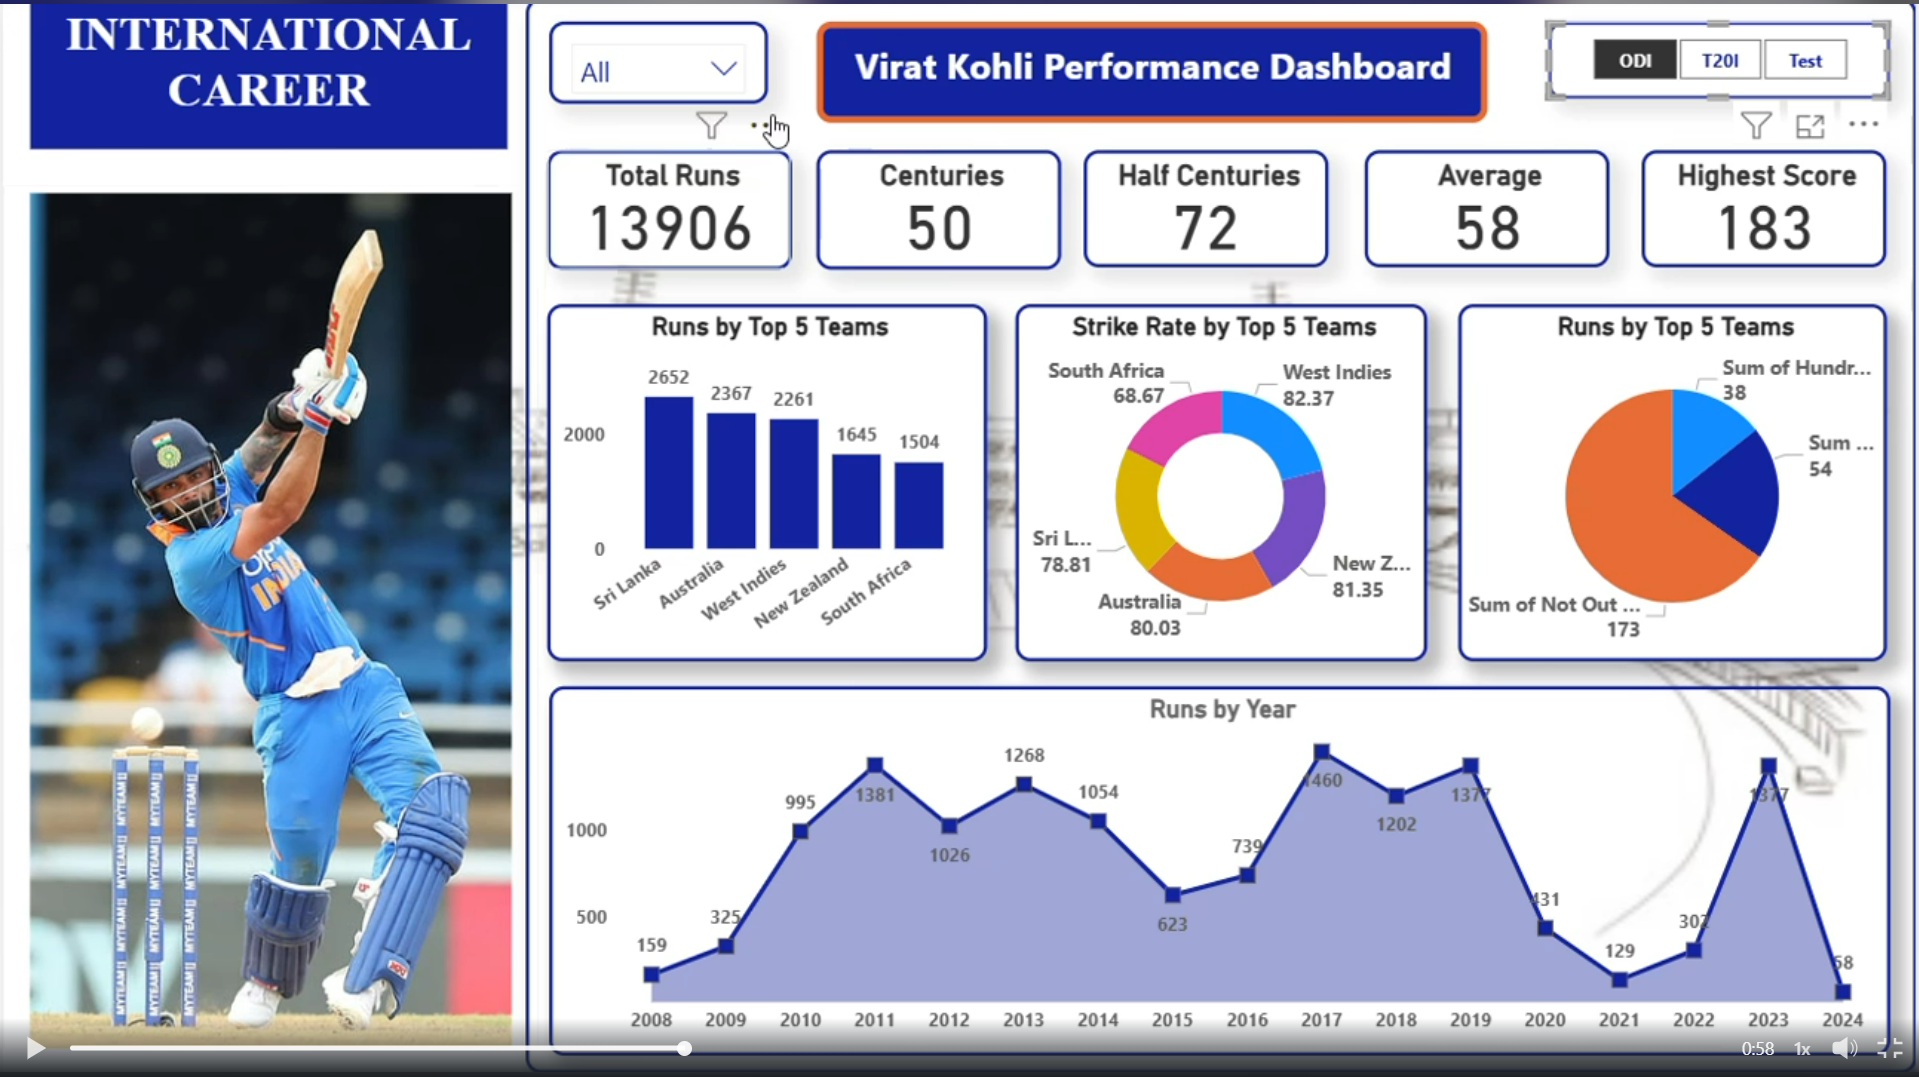

Layout of this report page (visuals, bound fields, positions):
{"tool":"powerbi","page":{"name":"Page 1","canvas":[1280,720],"ordinal":0},"visuals":[{"type":"shape","box":[349.3,0,930.4,720.3],"z":0},{"type":"image","box":[0,125,358.3,583.3],"z":1000},{"type":"card","title":"Total Runs","fields":{"Values":["Sum(Main.Runs)"]},"box":[363.8,101.4,163.8,79.7],"z":2000},{"type":"card","title":"Centuries","fields":{"Values":["Sum(Main.Hundreds)"]},"box":[544.9,101.4,163.8,79.7],"z":3000},{"type":"card","title":"Half Centuries","fields":{"Values":["Sum(Main.Fifties)"]},"box":[723.2,101.4,163.8,78.3],"z":4000},{"type":"card","title":"Average","fields":{"Values":["Main.Avg"]},"box":[911.6,101.4,163.8,78.3],"z":5000},{"type":"slicer","fields":{"Values":["Main.Format"]},"box":[1033.3,15.9,229,52.2],"z":6000},{"type":"slicer","fields":{"Values":["Main.Year"]},"box":[365.2,15.9,146.4,55.1],"z":7000},{"type":"lineChart","title":"Runs by Year","fields":{"Category":["Main.Year"],"Y":["Sum(Main.Runs)"]},"box":[365.2,460.9,897.1,247.8],"z":8000},{"type":"columnChart","title":"Runs by Top 5 Teams","fields":{"Category":["Main.Opposition"],"Y":["Sum(Main.Runs)"]},"box":[363.8,204.3,294.2,239.1],"z":9000},{"type":"card","title":"Highest Score","fields":{"Values":["Max(Main.Runs)"]},"box":[1097.1,101.4,163.8,78.3],"z":10000},{"type":"donutChart","title":"Strike Rate by Top 5 Teams","fields":{"Category":["Main.Opposition"],"Y":["Avg(Main.Strike Rate)"]},"box":[676.8,204.3,275.4,239.1],"z":11000},{"type":"textbox","box":[18.1,0,319.4,101.4],"z":12000},{"type":"pieChart","title":"Runs by Top 5 Teams","fields":{"Y":["Sum(Main.Hundreds)","Sum(Main.Fifties)","Sum(Main.Not Out Count)"]},"box":[973.9,204.3,287,239.1],"z":13000},{"type":"textbox","box":[544.9,15.9,449.3,68.1],"z":14000}]}

Visuals, with their boxes in screenshot pixels (x1, y1, x2, y2):
shape: 526:0:1902:1065
image: 10:185:540:1047
"Total Runs" card: 548:150:790:268
"Centuries" card: 816:150:1058:268
"Half Centuries" card: 1079:150:1321:266
"Average" card: 1358:150:1600:266
slicer - Main.Format: 1538:24:1876:101
slicer - Main.Year: 550:24:766:105
"Runs by Year" lineChart: 550:681:1876:1048
"Runs by Top 5 Teams" columnChart: 548:302:983:656
"Highest Score" card: 1632:150:1874:266
"Strike Rate by Top 5 Teams" donutChart: 1011:302:1418:656
textbox: 37:0:509:150
"Runs by Top 5 Teams" pieChart: 1450:302:1874:656
textbox: 816:24:1480:124
